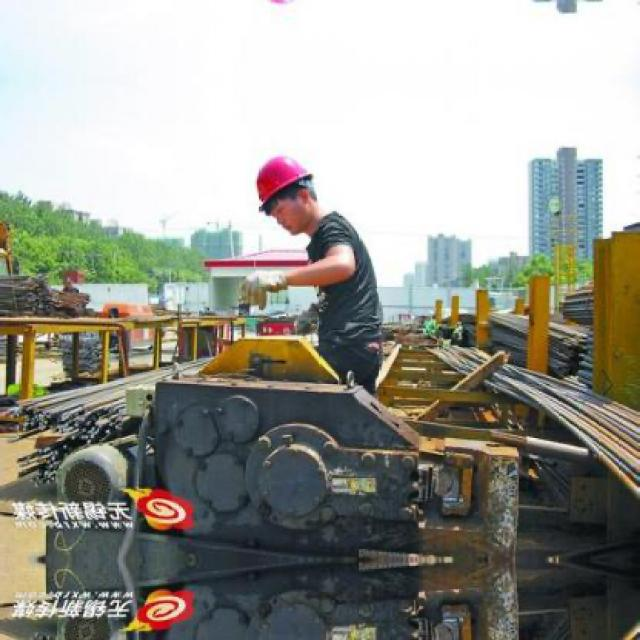helmet: (248, 143, 326, 239)
